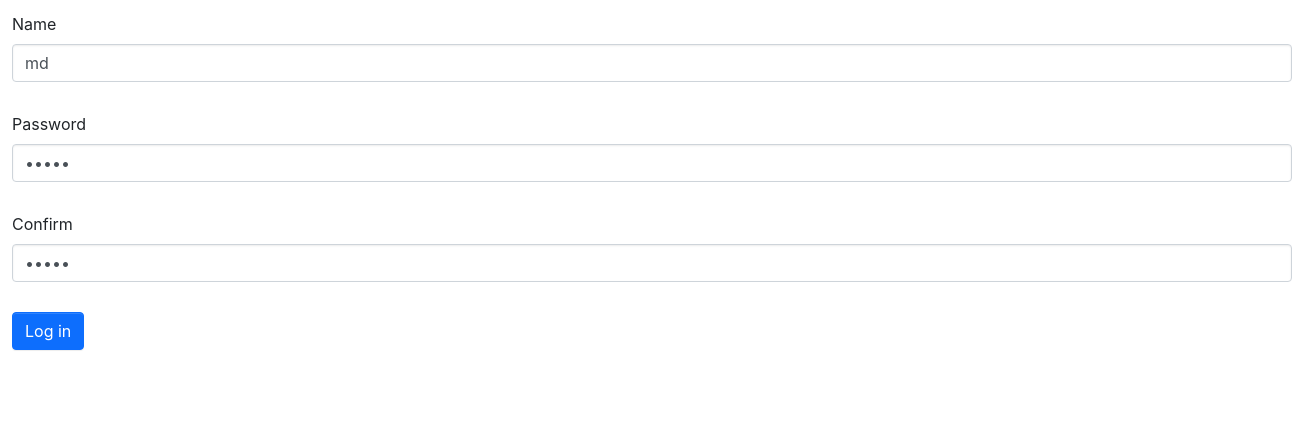
Scenario: testing Form component › submit form with invliad values should show the error message
The image size is (1304, 440).
Clear the field showing "md" at (652, 63), box top-left (12, 44), bottom-right (1292, 82)
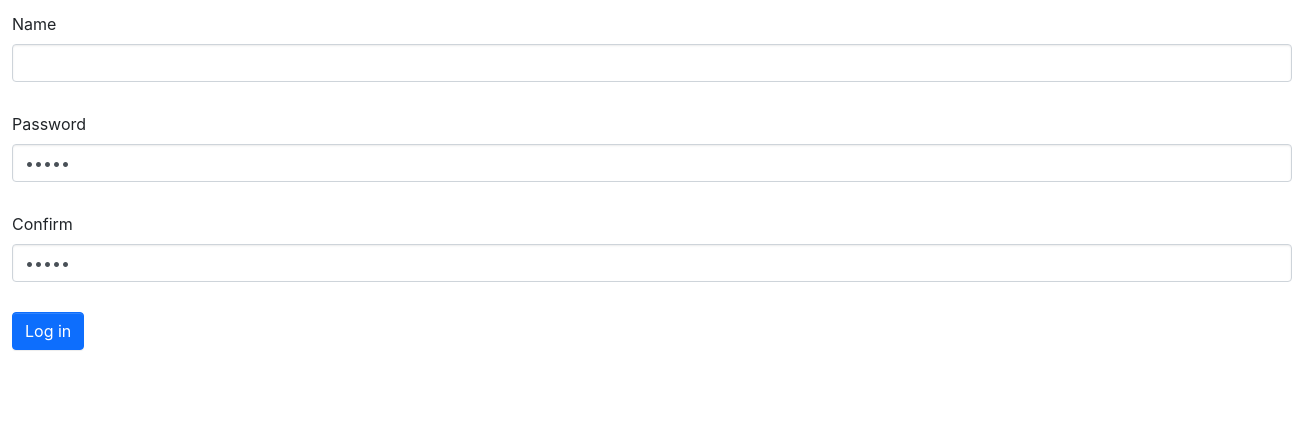
Clear the password field showing "12345" below "Password" at (652, 163), box top-left (12, 144), bottom-right (1292, 182)
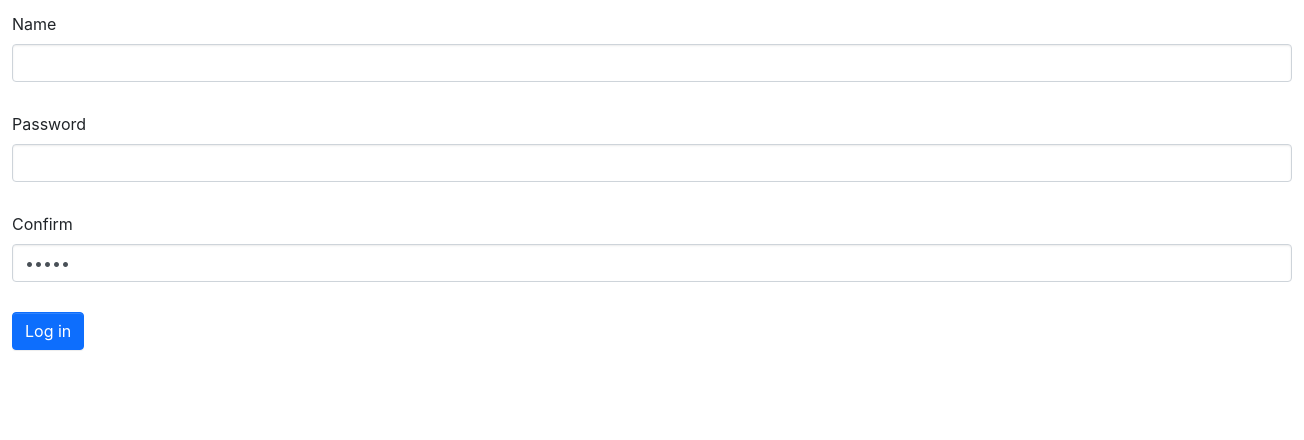
Click the button "Log in" at (48, 331), box top-left (12, 312), bottom-right (84, 350)
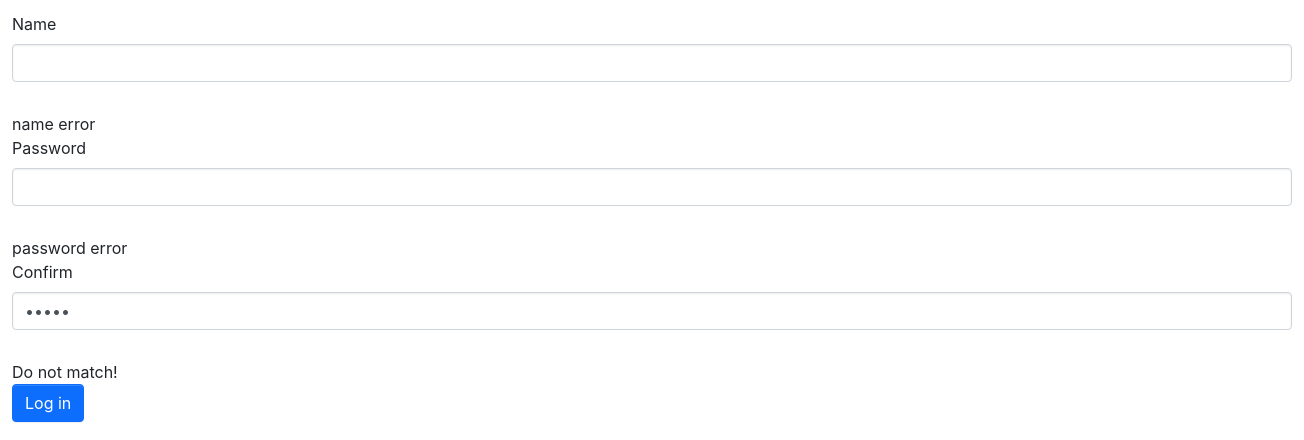
Expected: the text "name error" is shown, top-left (12, 114), bottom-right (95, 134)
Expected: the text "password error" is shown, top-left (12, 238), bottom-right (127, 258)
